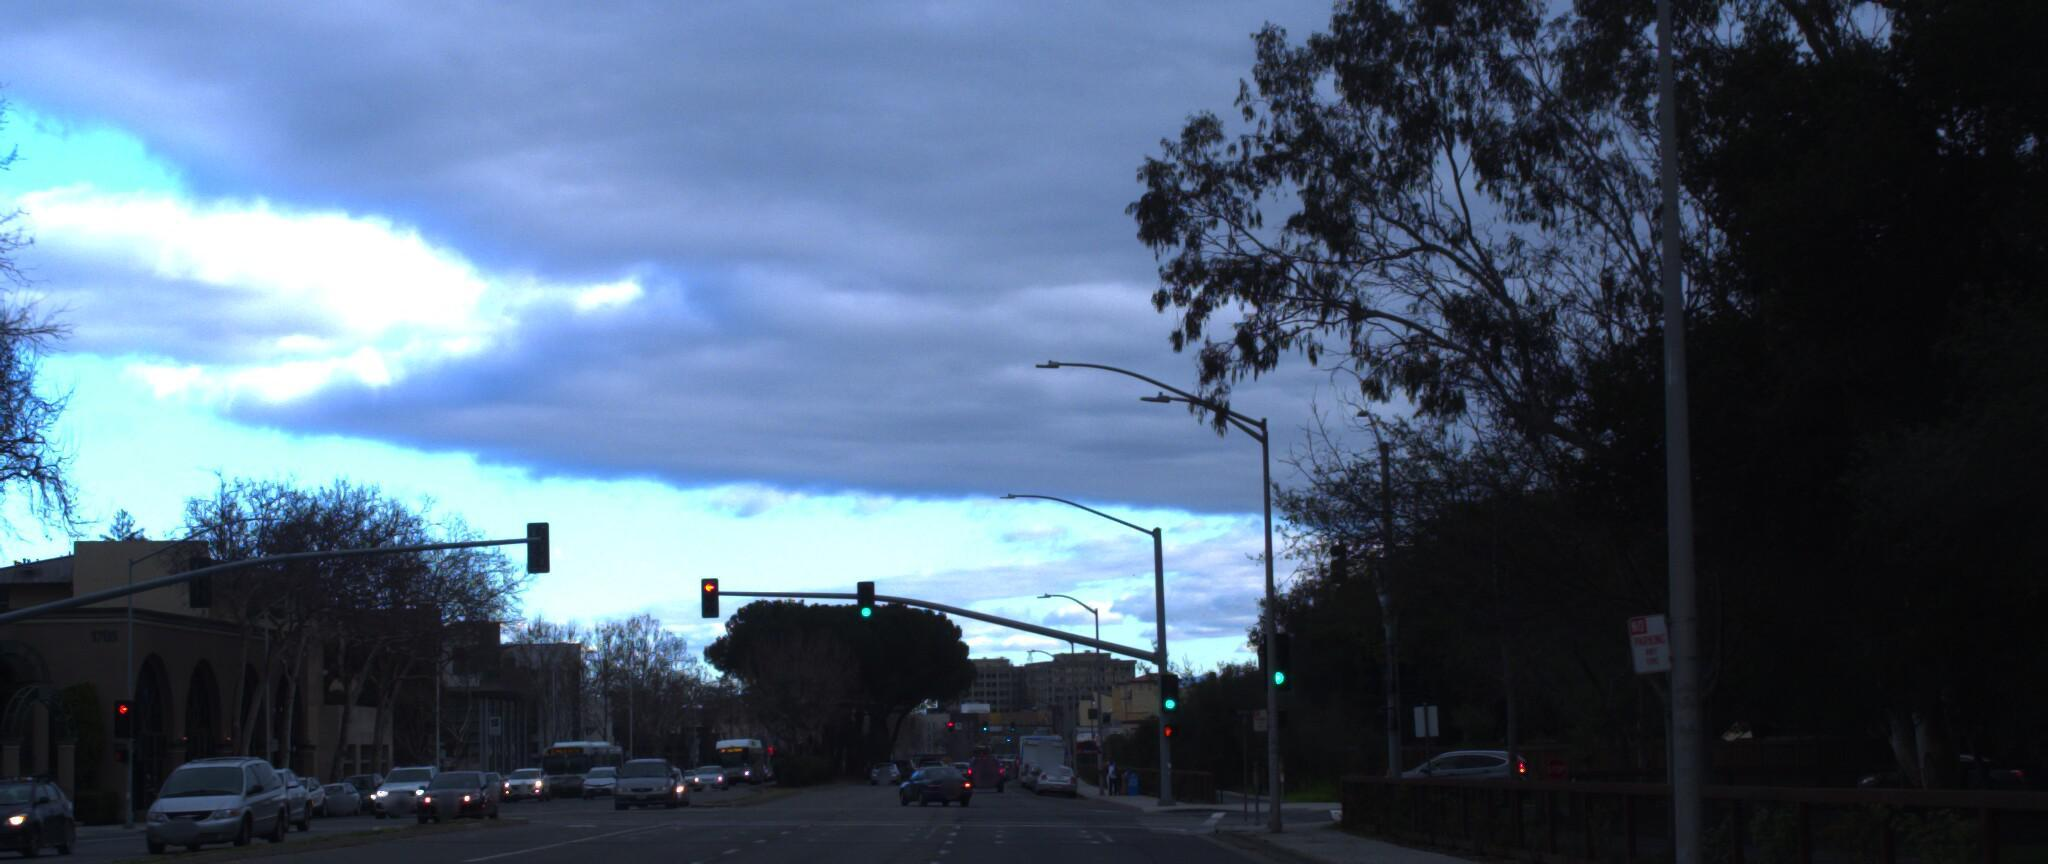car: (131, 737, 295, 844), (0, 766, 78, 861)
